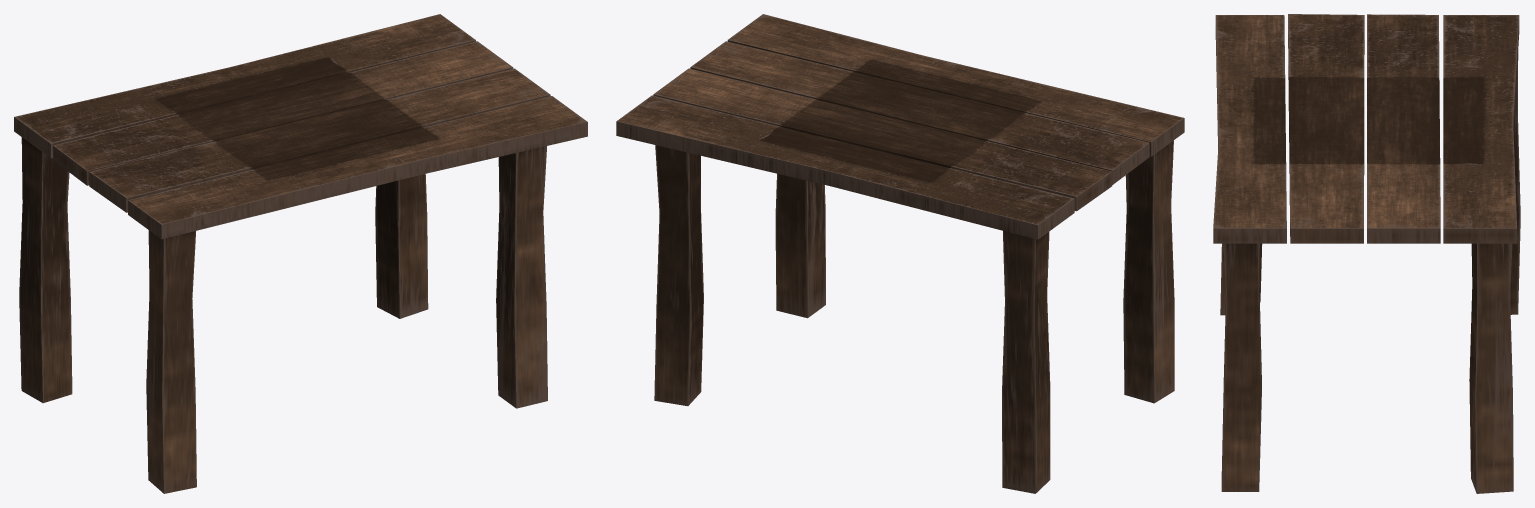
The model's file is diningTable.glb.
The picture shows the model from 3 angles, left to right: view 1: azimuth 30°, elevation 25°; view 2: azimuth 150°, elevation 25°; view 3: azimuth 270°, elevation 25°; orthographic projection. The views are drawn at different scales.
Visible parts, largest first — view 1: diningTable; view 2: diningTable; view 3: diningTable.
Boxes of the visible parts, x1,y1,x2,y2 form: diningTable: [14, 14, 587, 493]; diningTable: [616, 14, 1184, 493]; diningTable: [1213, 14, 1520, 493].
Size of the model in its own units: 1.23 by 0.7578 by 0.7484.
Materials: 1 (1 with a texture image).
